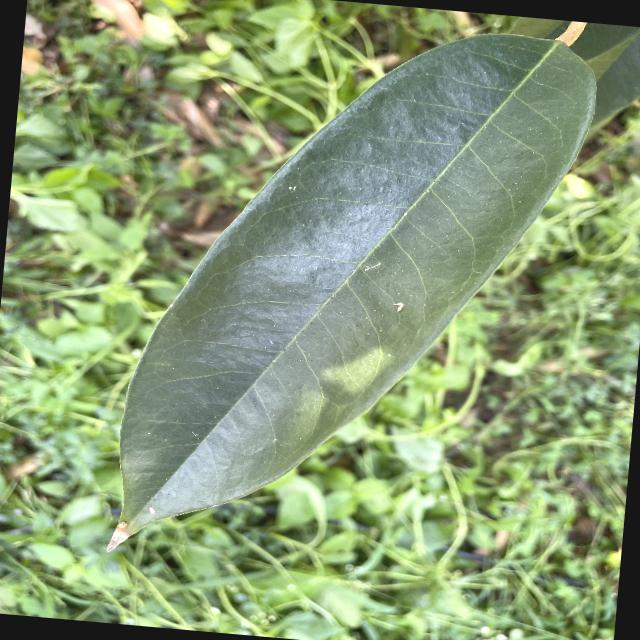No Disease: (96, 0, 612, 598)
